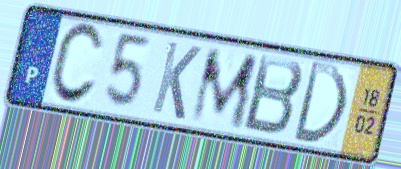5: (102, 31, 153, 113)
B: (240, 52, 307, 139)
C: (46, 21, 106, 108)
D: (289, 58, 349, 148)
K: (149, 37, 204, 123)
M: (187, 46, 261, 131)
